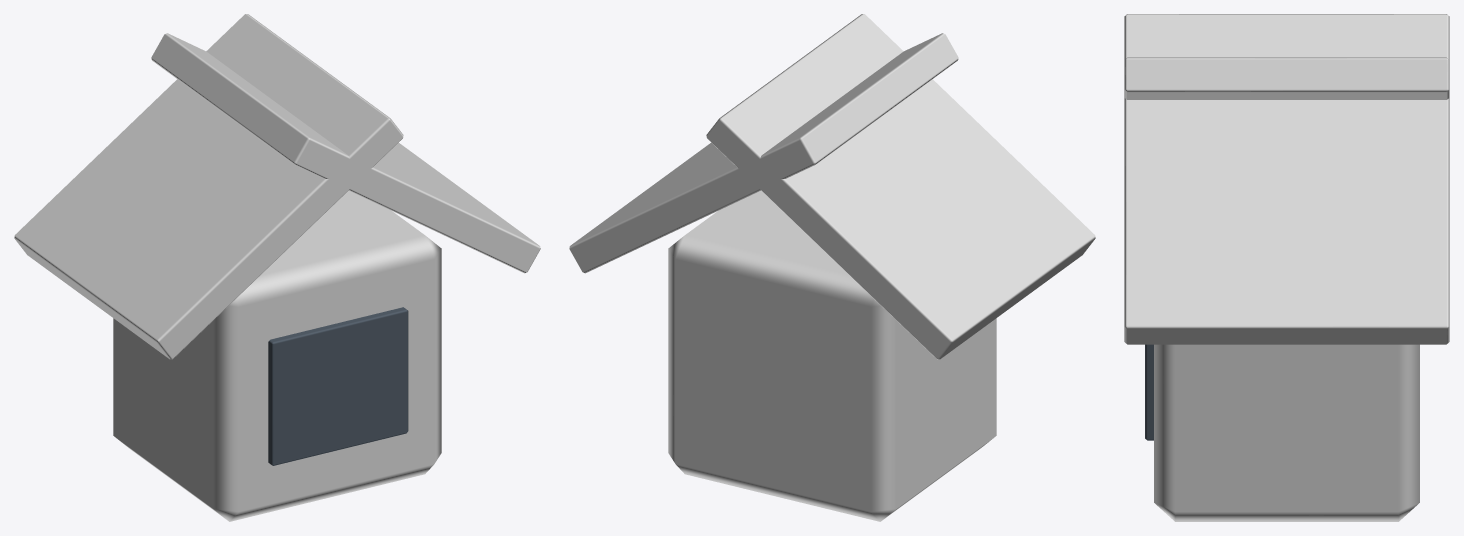
File: village-roof-dormer.67647547.glb
3 views of the same model, side by side, from view 1: azimuth 30°, elevation 25°; view 2: azimuth 150°, elevation 25°; view 3: azimuth 270°, elevation 25° (orthographic). The views are drawn at different scales.
Parts seen in each view (by area): view 1: body; view 2: body; view 3: body.
Boxes of the visible parts, x1,y1,x2,y2 form: body: [14, 14, 540, 521]; body: [569, 14, 1095, 521]; body: [1124, 14, 1449, 521].
Bounding box in the file's own units: 0.8402 × 0.8071 × 0.55.
